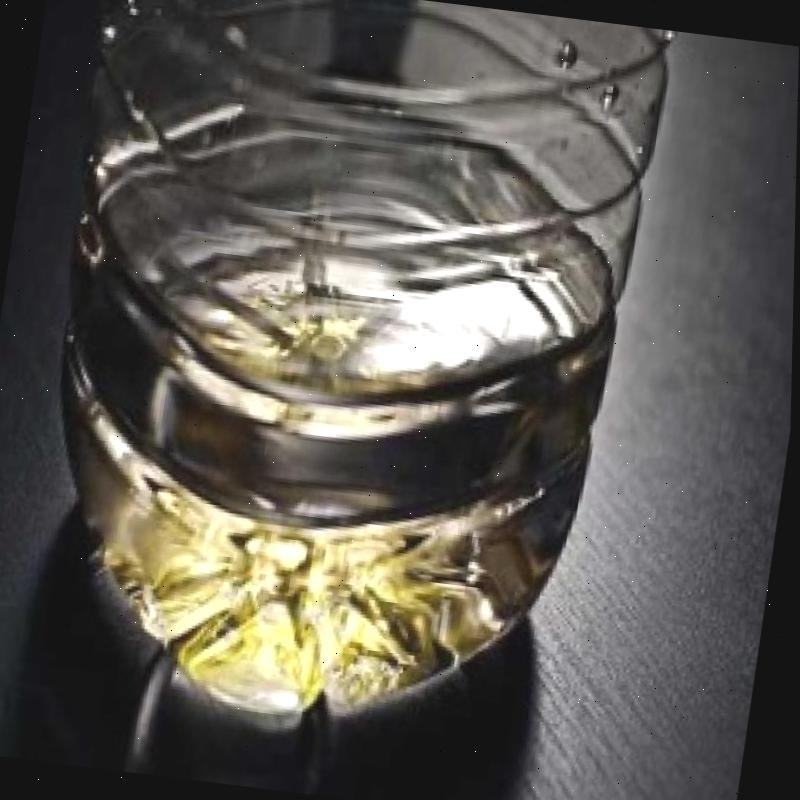botella: (0, 0, 675, 747)
